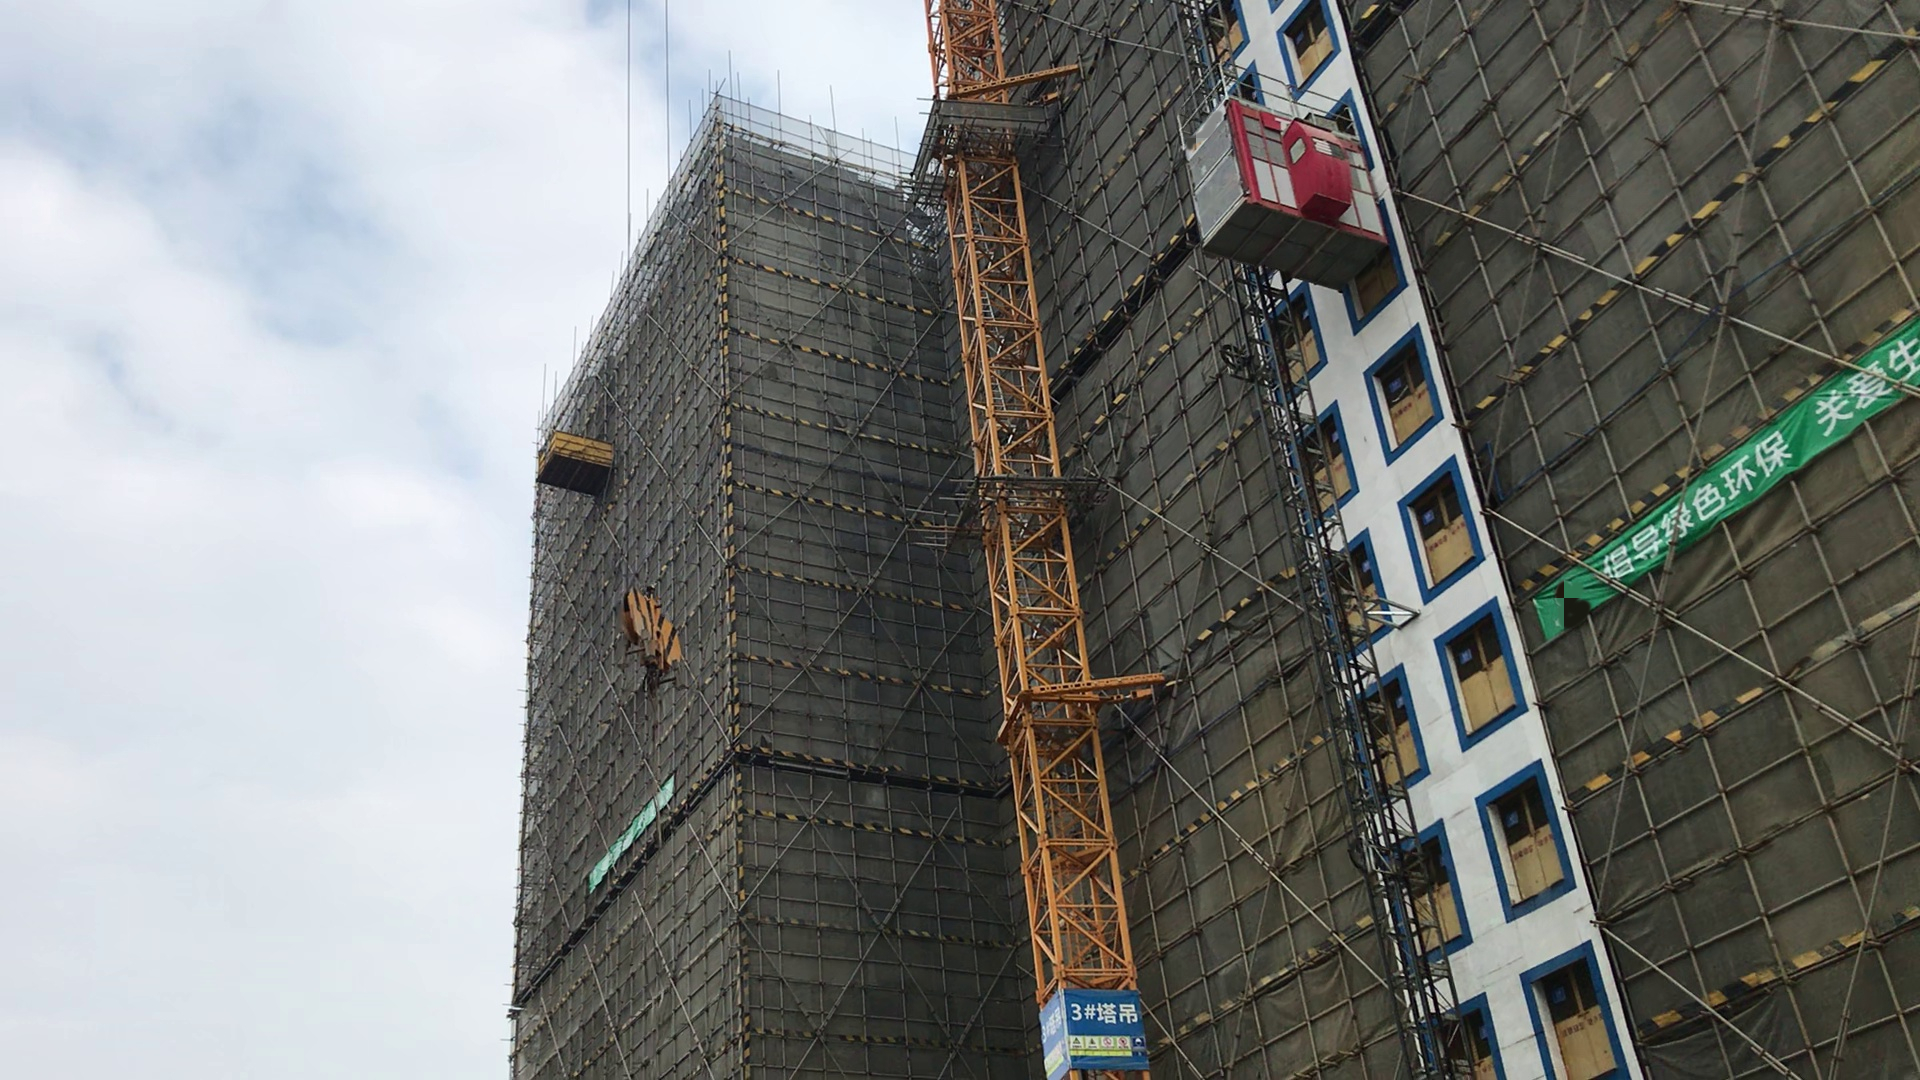hook: (620, 579, 694, 692)
slogan: (1560, 328, 1920, 629), (587, 783, 674, 895)
